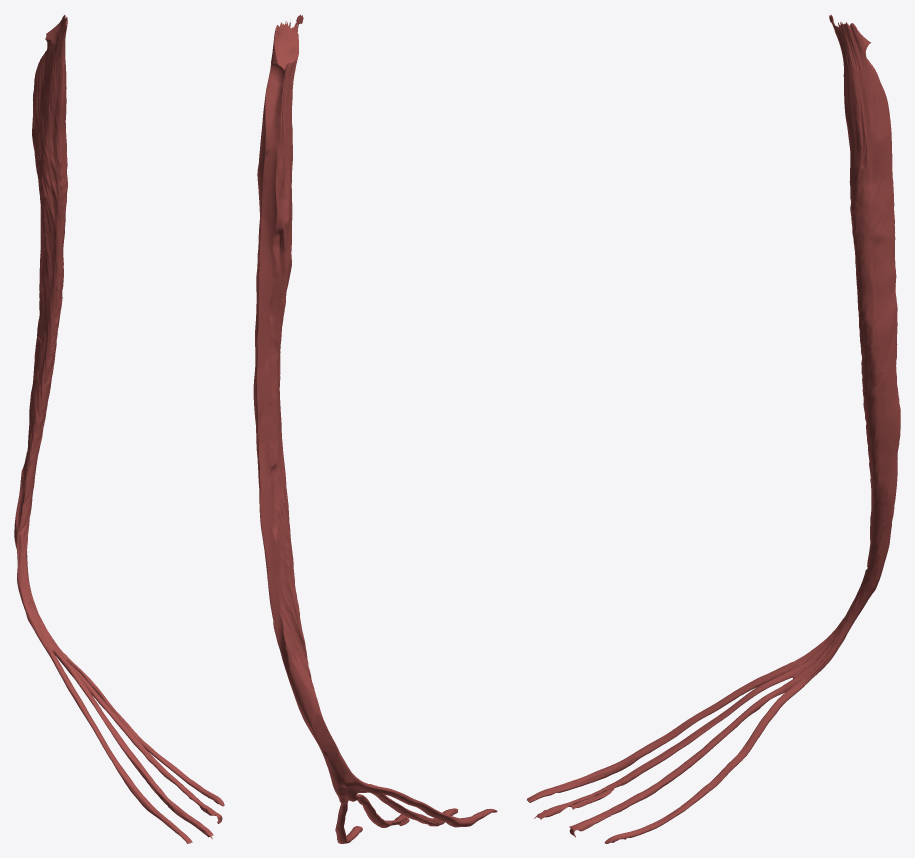
Rendered from FMA22549.glb.
3 views of the same model, side by side, from view 1: azimuth 30°, elevation 25°; view 2: azimuth 150°, elevation 25°; view 3: azimuth 270°, elevation 25° (orthographic). The views are drawn at different scales.
Visible parts, largest first — view 1: FMA22549; view 2: FMA22549; view 3: FMA22549.
Part boxes in pixels (<box>): FMA22549: <box>14,15,224,843</box>; FMA22549: <box>253,14,497,843</box>; FMA22549: <box>527,14,900,843</box>.
Size of the model in its own units: 0.055 by 0.3935 by 0.1664.
